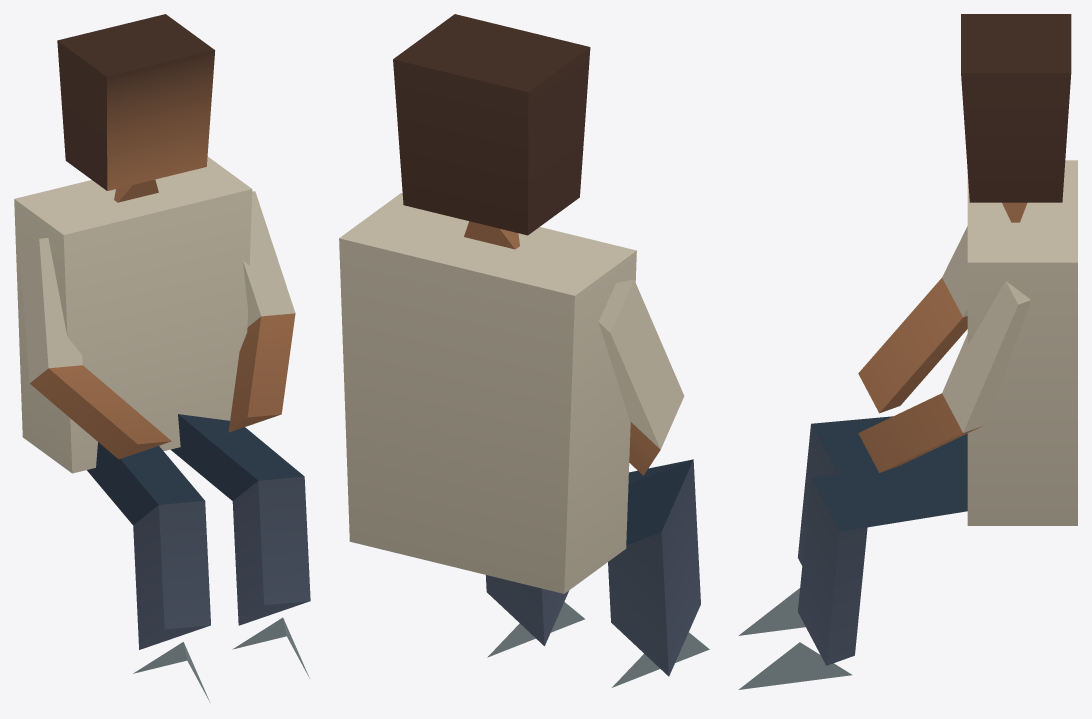
The model's file is fan-06.glb.
The picture shows the model from 3 angles, left to right: view 1: azimuth 30°, elevation 25°; view 2: azimuth 150°, elevation 25°; view 3: azimuth 270°, elevation 25°; orthographic projection. The views are drawn at different scales.
Visible parts, largest first — view 1: fan-06; view 2: fan-06; view 3: fan-06.
Boxes of the visible parts, <box> form: fan-06: <box>14,14,310,702</box>; fan-06: <box>339,14,709,687</box>; fan-06: <box>738,14,1077,689</box>.
Size of the model in its own units: 0.7475 by 1.55 by 0.77.
